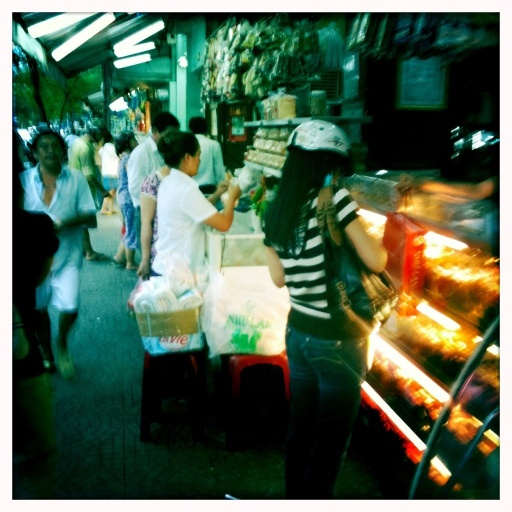hand: (393, 173, 421, 195), (228, 184, 243, 198), (216, 182, 230, 193)
